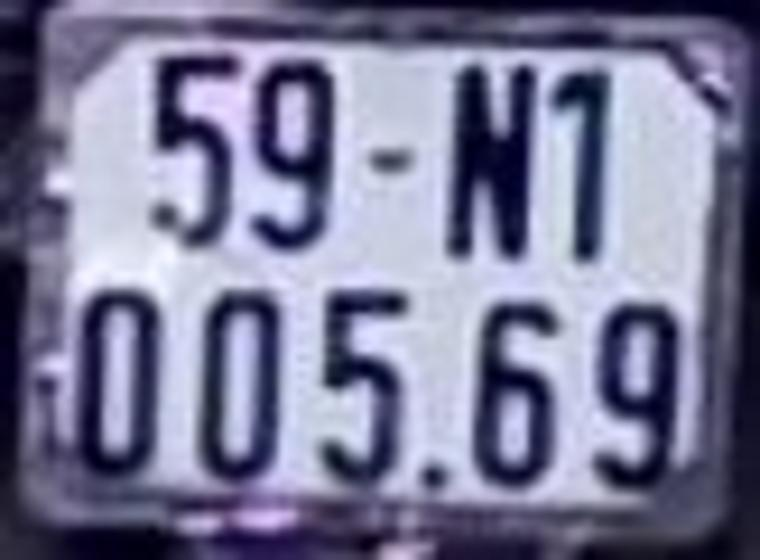-: (366, 146, 410, 178)
.: (420, 463, 445, 490)
0: (196, 287, 281, 482), (75, 286, 155, 479)
1: (554, 68, 610, 256)
5: (319, 289, 406, 489), (155, 51, 233, 246)
6: (471, 295, 557, 488)
9: (592, 305, 681, 493), (253, 56, 332, 247)
N: (451, 61, 535, 255)
